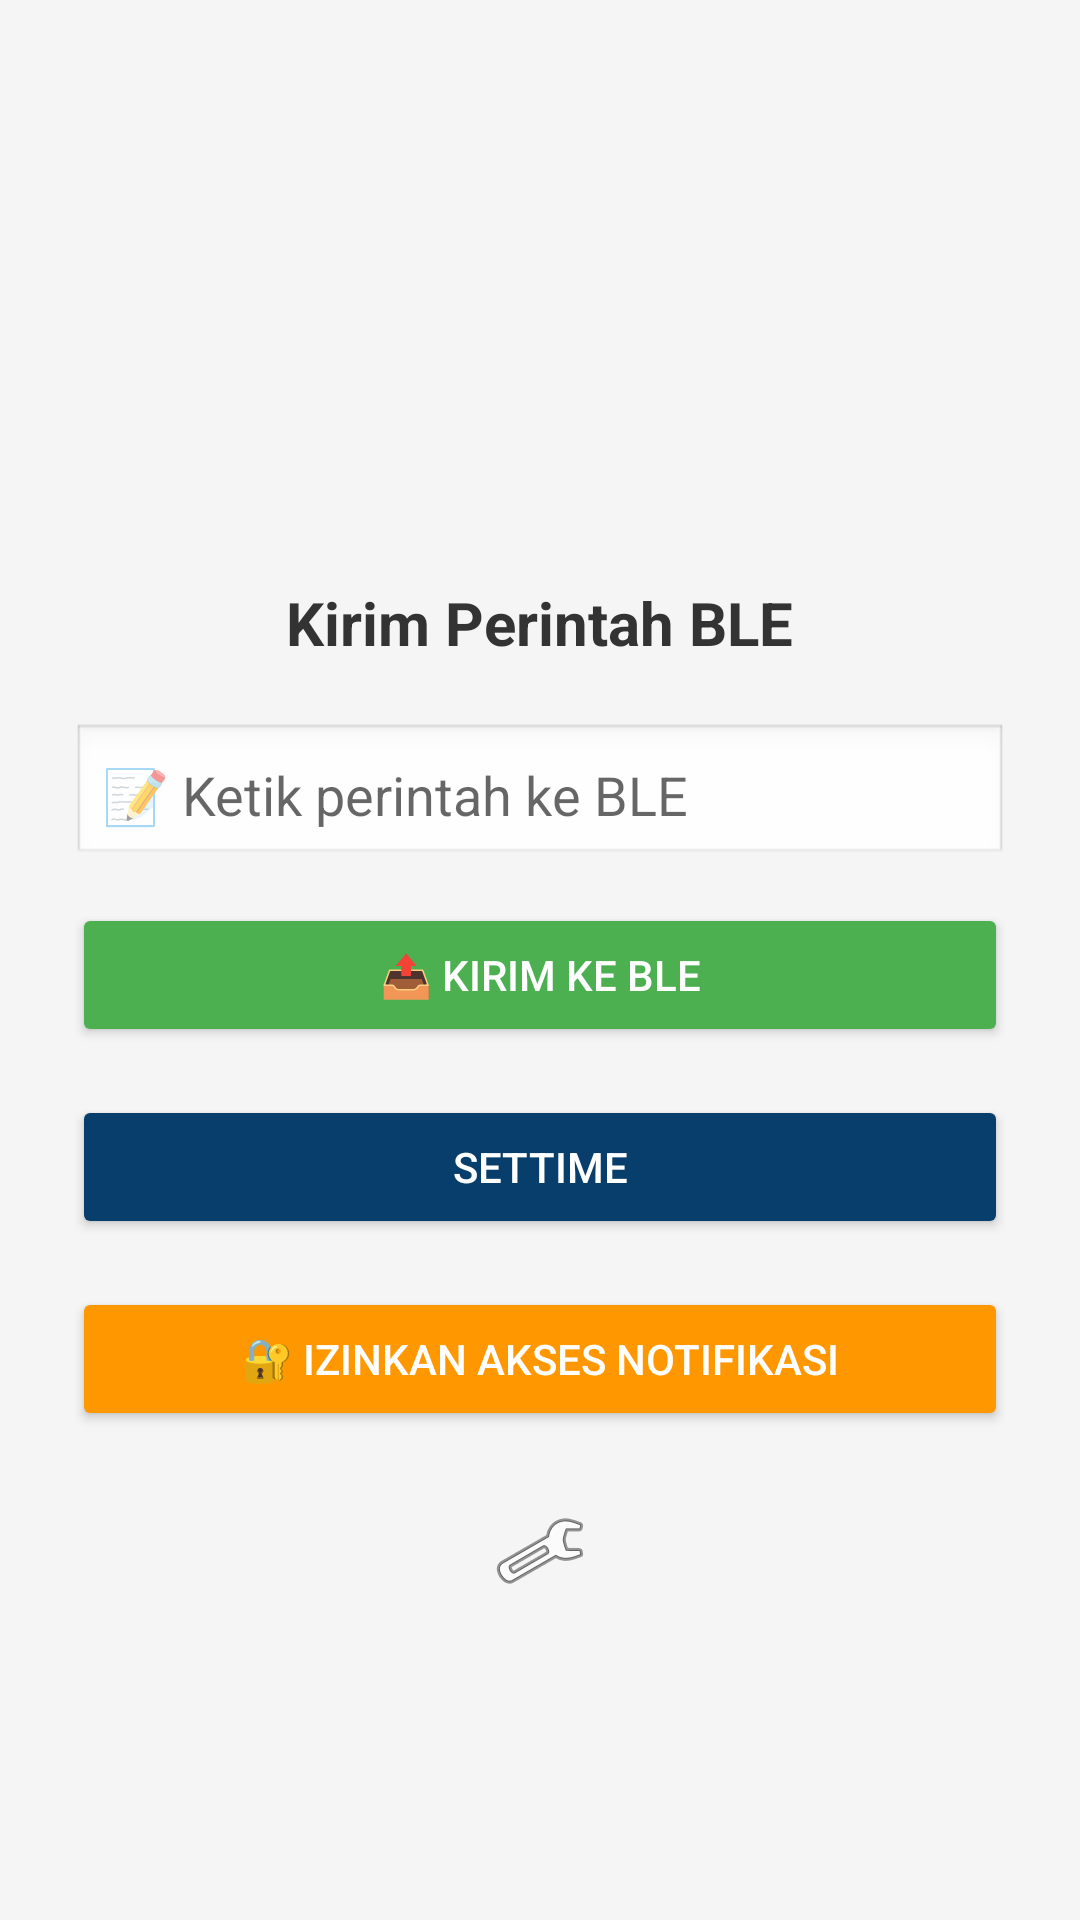

Named icons in this screenshot (1080 x 1920) and their centers, point (x, y):
Pengaturan: point (540, 1551)
